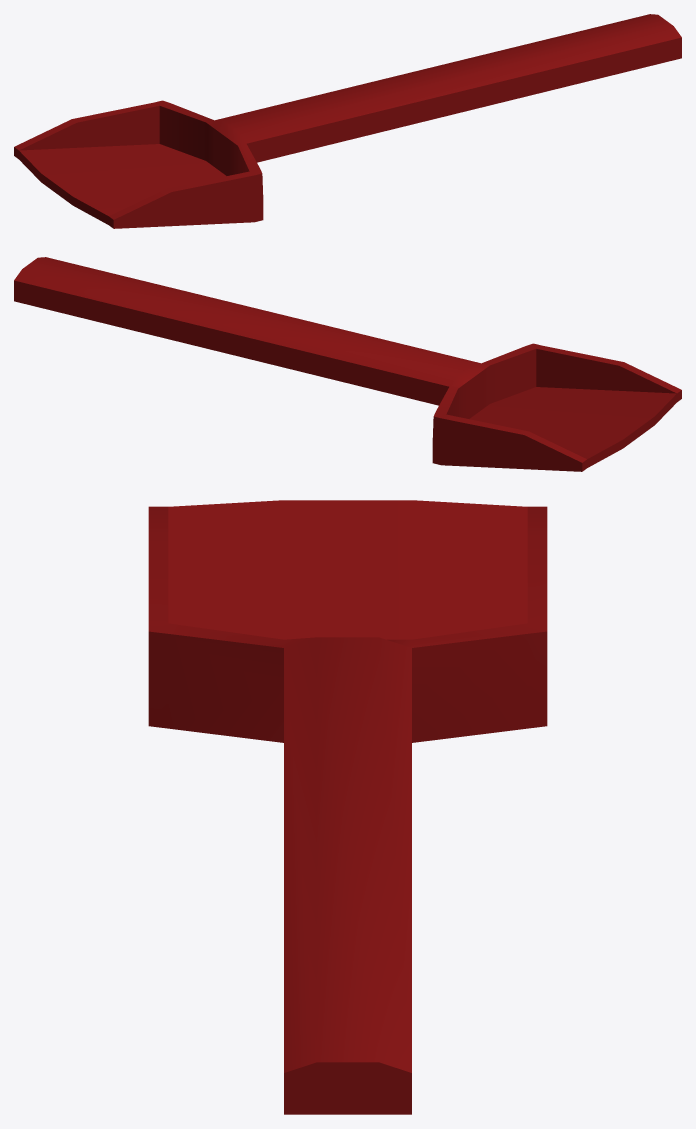
The model's file is SandShovel001.FBX.
3 renders of one model, top to bottom at view 1: azimuth 30°, elevation 25°; view 2: azimuth 150°, elevation 25°; view 3: azimuth 270°, elevation 25°, orthographic. The views are drawn at different scales.
Parts seen in each view (by area): view 1: Box001; view 2: Box001; view 3: Box001.
Boxes of the visible parts, bbox=[...] form: Box001: bbox=[14, 14, 681, 228]; Box001: bbox=[14, 257, 681, 471]; Box001: bbox=[148, 500, 547, 1114].
Size of the model in its own units: 142 by 11.79 by 40.32.
